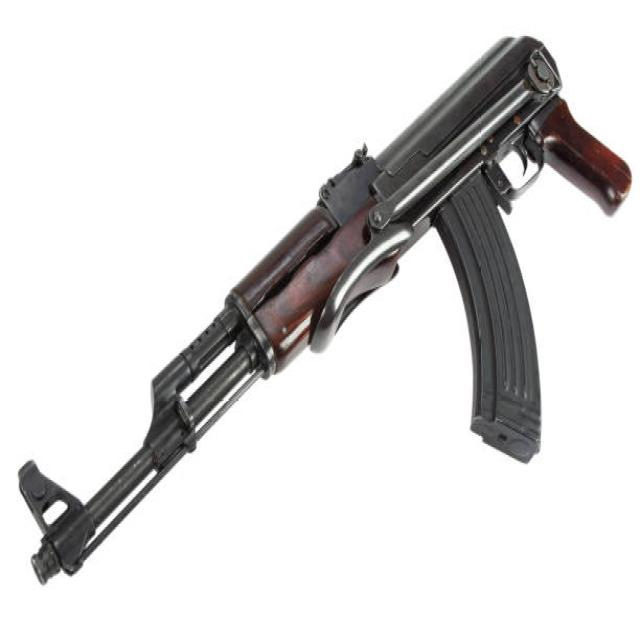rifle: (8, 18, 634, 590)
